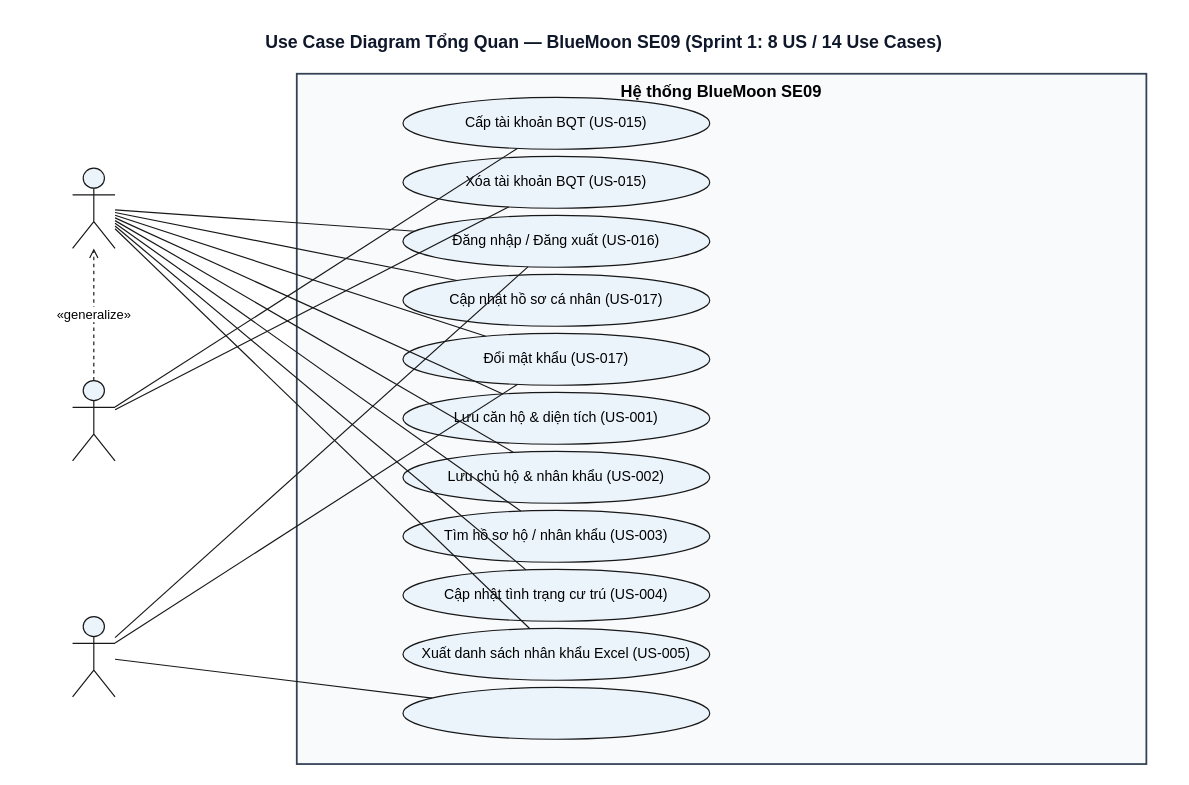
Image size: 1189x785. Some labels were removed from this diagram. The shapes that lost their labels are listed below. From the top down, each one's centre as x and y in pixels, then its label:
pixel 93 207: Thành viên BQT
pixel 93 420: Quản trị viên (ADMIN)
pixel 93 656: Cư dân (RESIDENT)
pixel 556 712: Xem thông tin cư trú của mình
